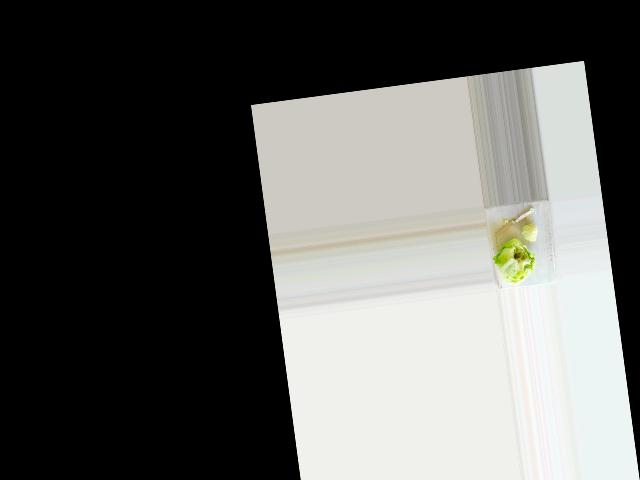lettuce: (493, 240, 538, 289)
